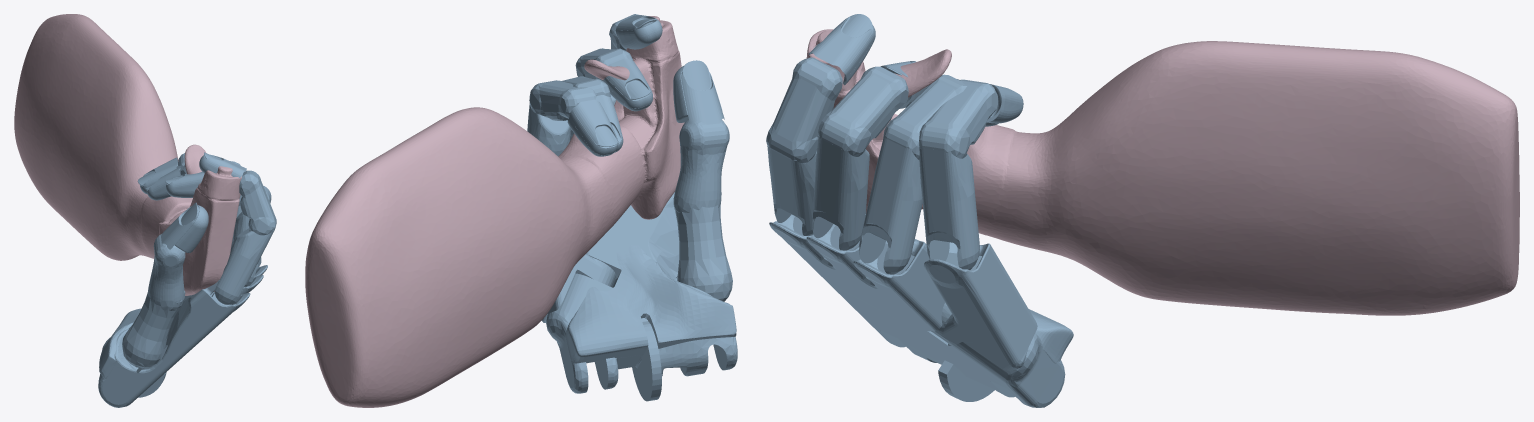
3 views of the same model, side by side, from view 1: azimuth 30°, elevation 25°; view 2: azimuth 150°, elevation 25°; view 3: azimuth 270°, elevation 25° (orthographic). The views are drawn at different scales.
Parts seen in each view (by area): view 1: obj_mesh_grasp_0.obj, world; view 2: obj_mesh_grasp_0.obj, world; view 3: obj_mesh_grasp_0.obj, world.
Part boxes in pixels (x1,y1,x2,y2): obj_mesh_grasp_0.obj: (14,14,241,295); world: (98,152,276,407); obj_mesh_grasp_0.obj: (305,16,684,407); world: (527,14,737,401); obj_mesh_grasp_0.obj: (806,29,1519,315); world: (766,14,1073,407).
Bounding box in the file's own units: 0.1081 × 0.1704 × 0.2842.
